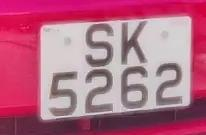2: (151, 58, 187, 111), (81, 65, 118, 113)
5: (48, 66, 82, 115)
6: (116, 63, 153, 112)
K: (117, 16, 153, 73)
S: (81, 19, 117, 75)
